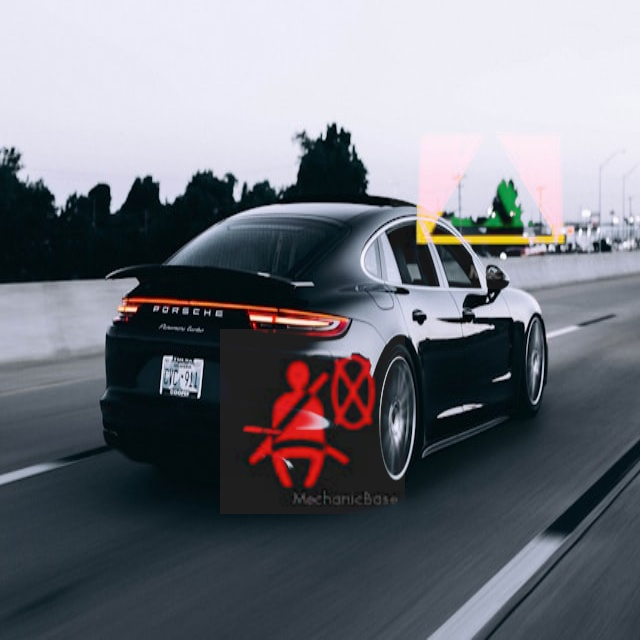symbol: (390, 87, 592, 289), (220, 329, 405, 514)
